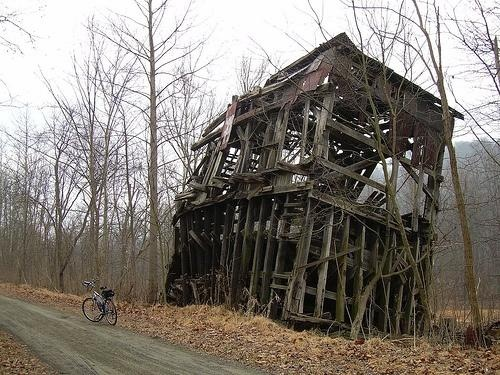bicycle: (81, 280, 121, 326)
